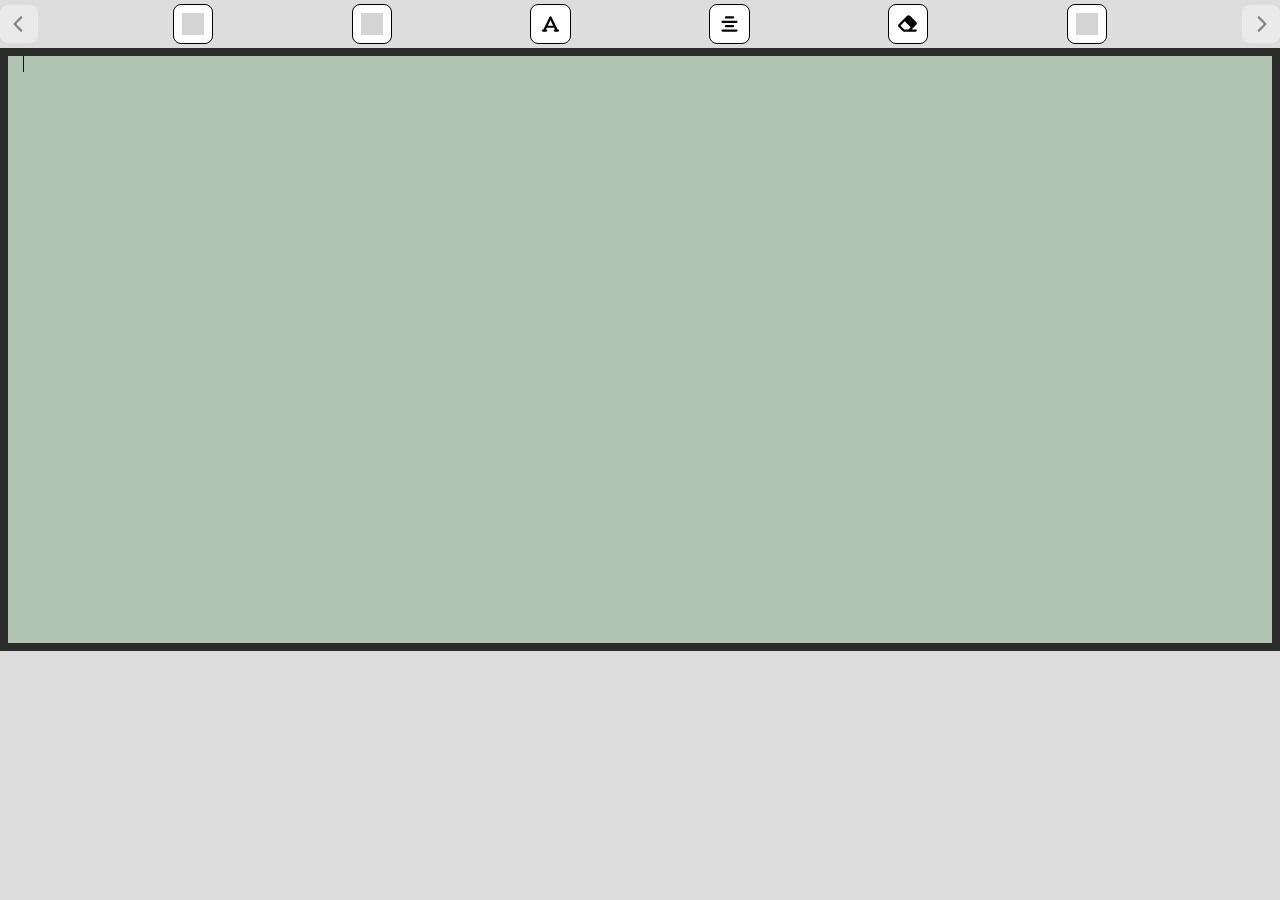
Test: OptionenPreSmsTextbild › öffnet den ConfirmDialog beim Löschen mit Selektion
Click the button named "Löschen" at coordinates (1087, 24), box [1067, 4, 1107, 44]
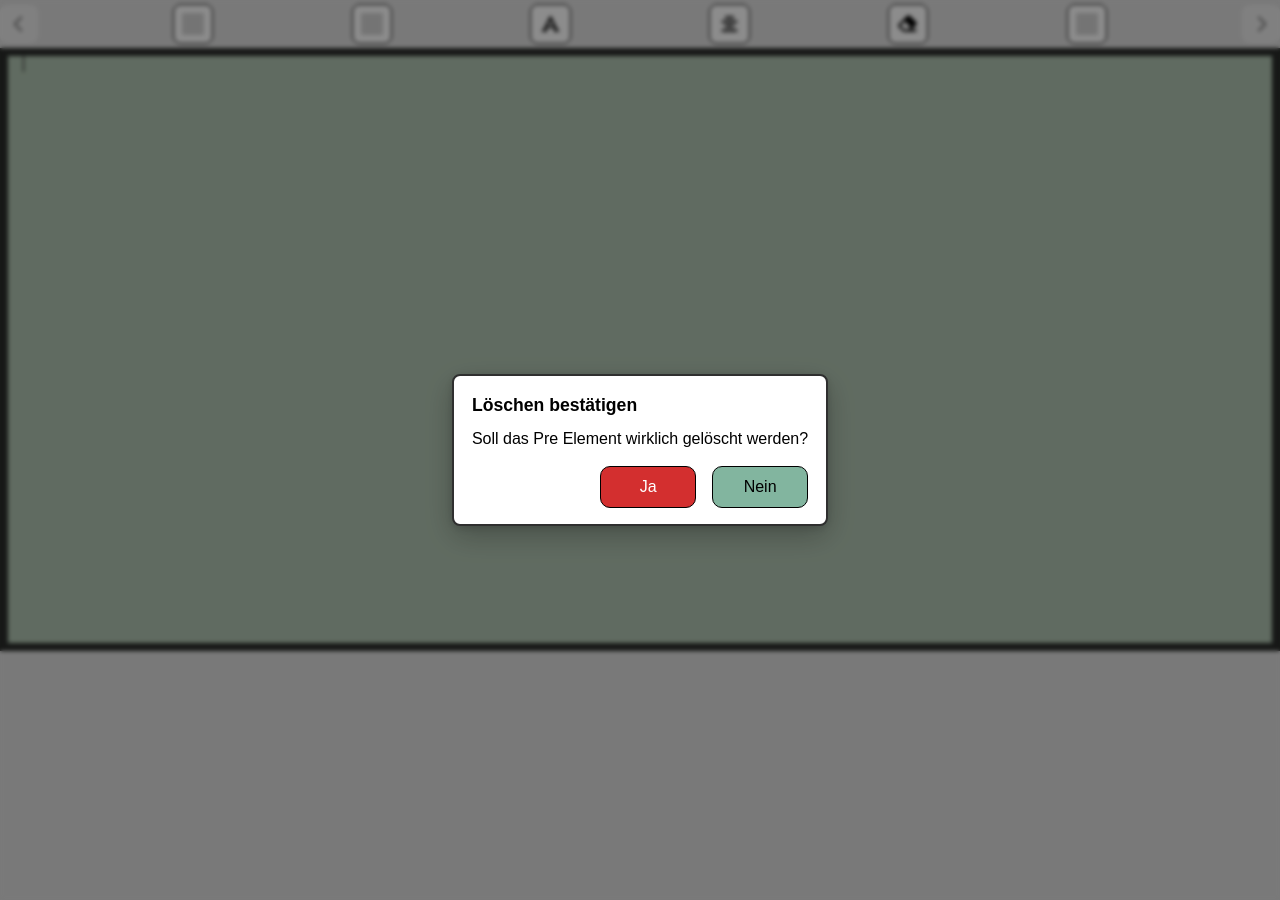
Expected: the dialog is shown, [452, 374, 828, 526]
Expected: the text "Soll das Pre Element wirklich gelöscht werden?" is shown, [472, 427, 808, 450]
